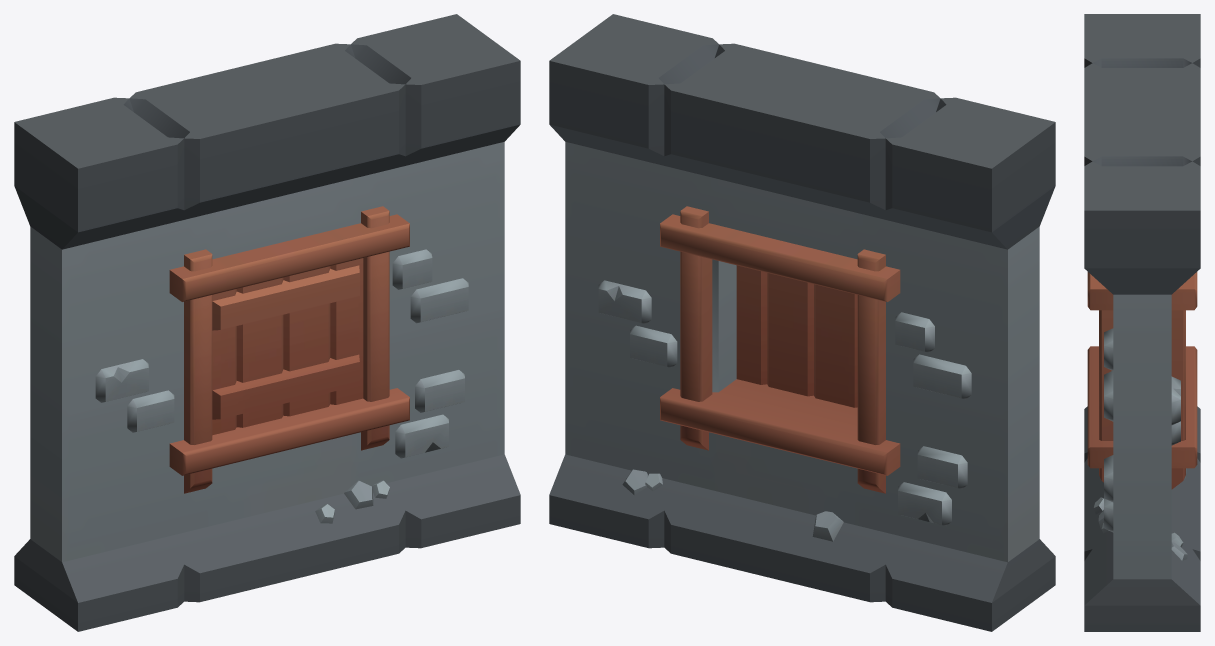
Rendered from kaykit-dungeon-remastered-wall-window-closed-gltf.glb.
3 views of the same model, side by side, from view 1: azimuth 30°, elevation 25°; view 2: azimuth 150°, elevation 25°; view 3: azimuth 270°, elevation 25° (orthographic). The views are drawn at different scales.
Parts seen in each view (by area): view 1: wall_window_closed; view 2: wall_window_closed; view 3: wall_window_closed.
Boxes of the visible parts, x1,y1,x2,y2 form: wall_window_closed: (14, 14, 520, 631); wall_window_closed: (549, 14, 1055, 631); wall_window_closed: (1084, 14, 1200, 631).
Size of the model in its own units: 4 by 4 by 1.
1 material, 1 textured.
